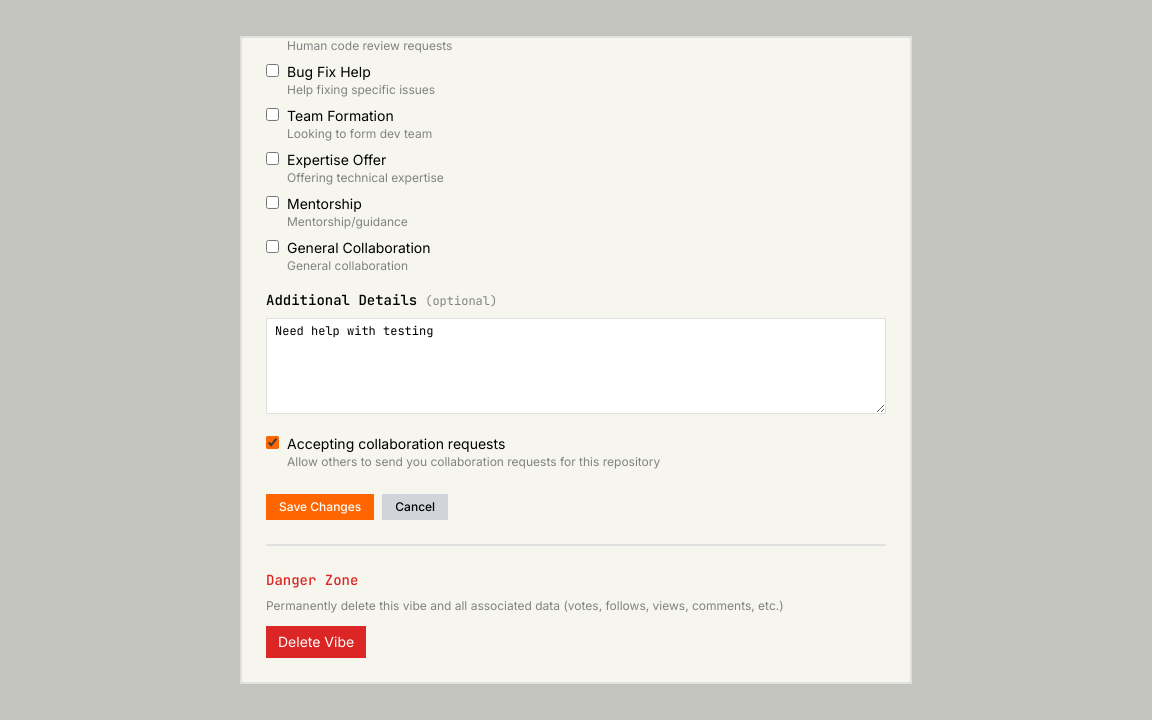
Test case: EditVibeModal › Save Functionality › should show loading state while saving
This screenshot has width=1152, height=720.
(page scrolled)
Click the button "Save Changes".
click(320, 507)  # box [266,494,374,520]
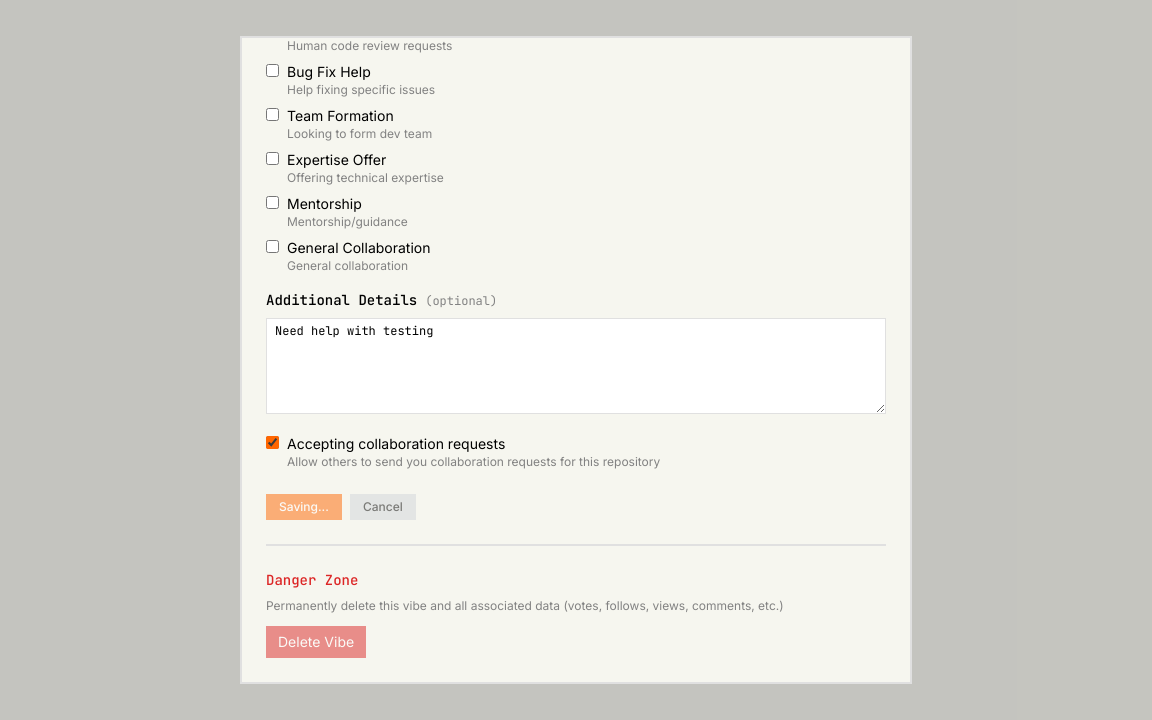
Expected: the button "Saving..." is disabled, [266,494,342,520]
